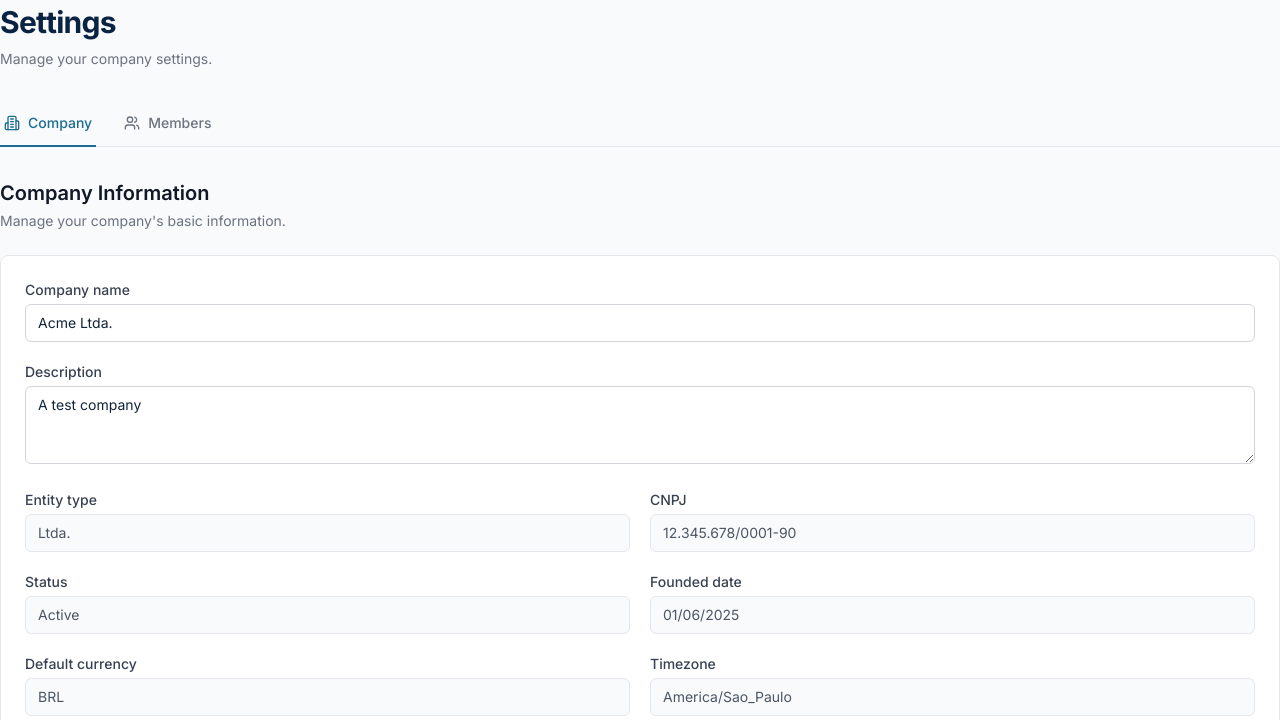
SettingsPage › Members Tab › shows resend option for pending members
The width and height of the screenshot is (1280, 720).
What coordinates should you click on to do the following:
click the button "Members"
I would click on:
 (168, 124)
Its box is [120, 101, 216, 147].
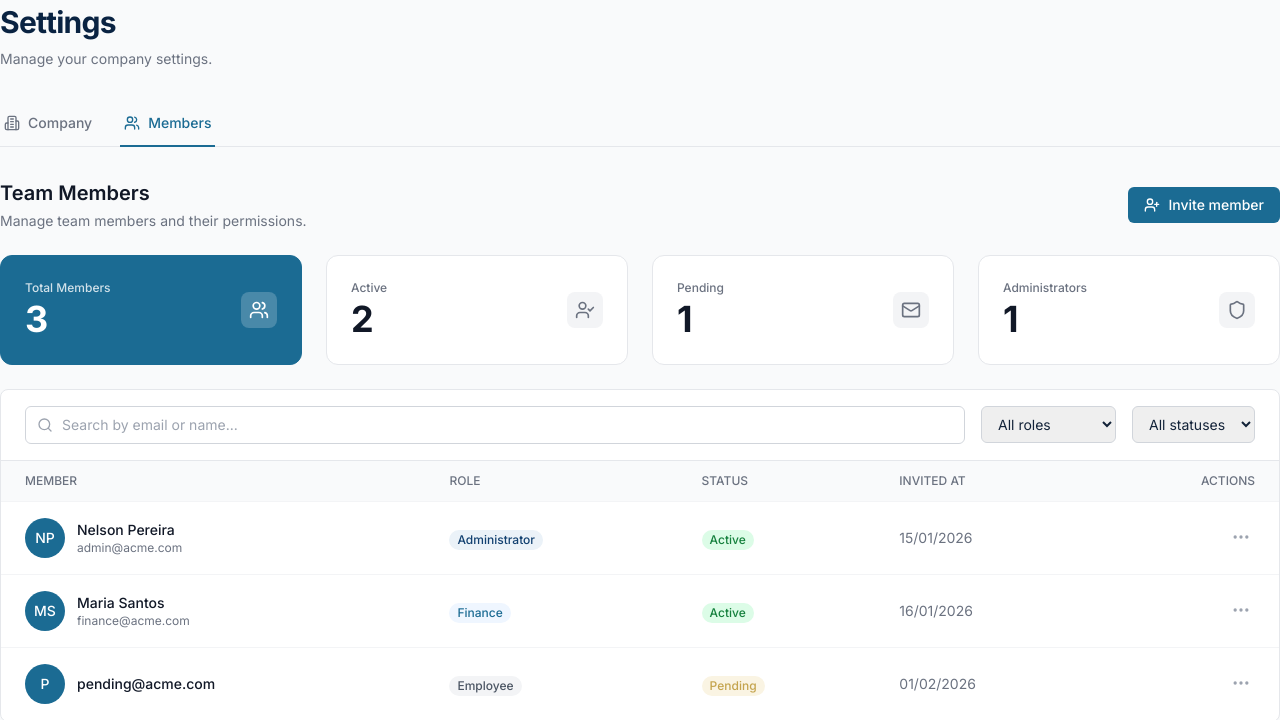
What coordinates should you click on to do the following:
click the button named "Actions" in the row of "pending@acme.com"
I would click on:
 (1241, 683)
Its box is [1227, 669, 1255, 697].
(page scrolled)
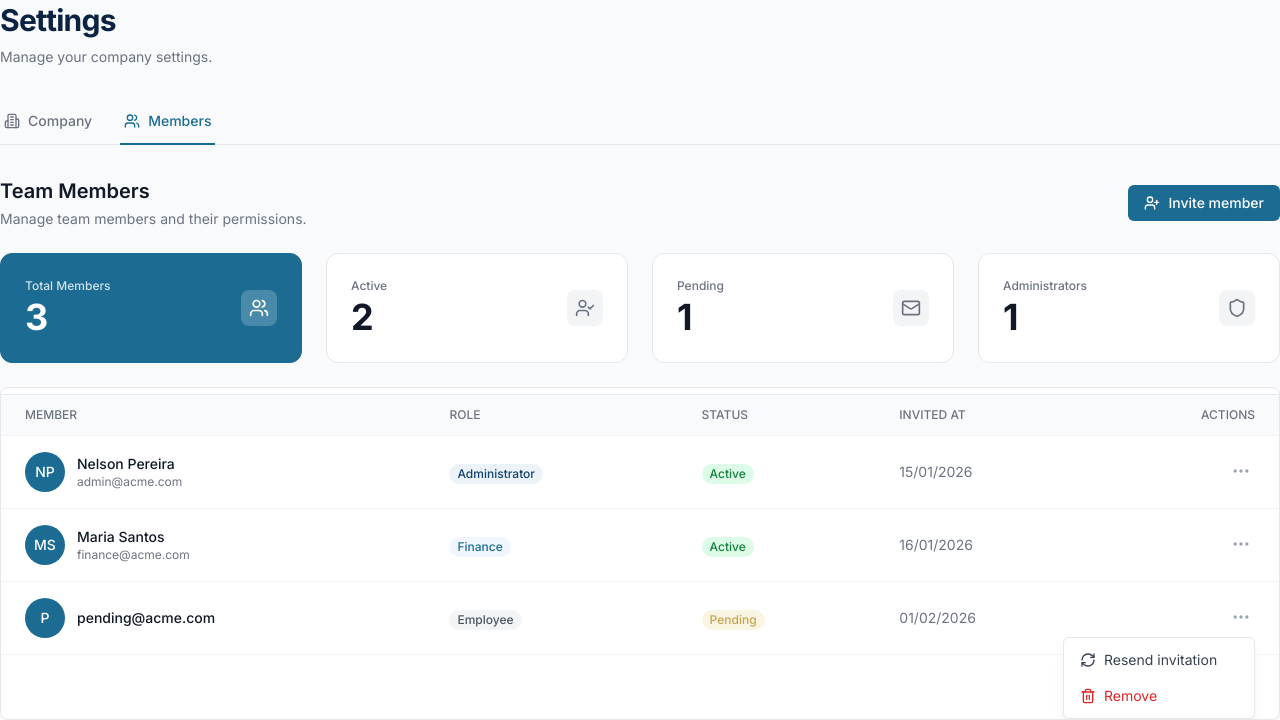
Check: the button "Resend invitation" is shown, box [1064, 642, 1254, 678]
